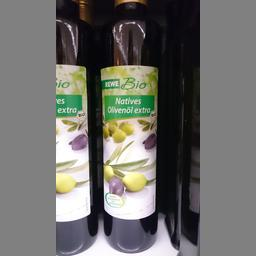oil: (97, 0, 158, 250), (55, 0, 98, 254)
